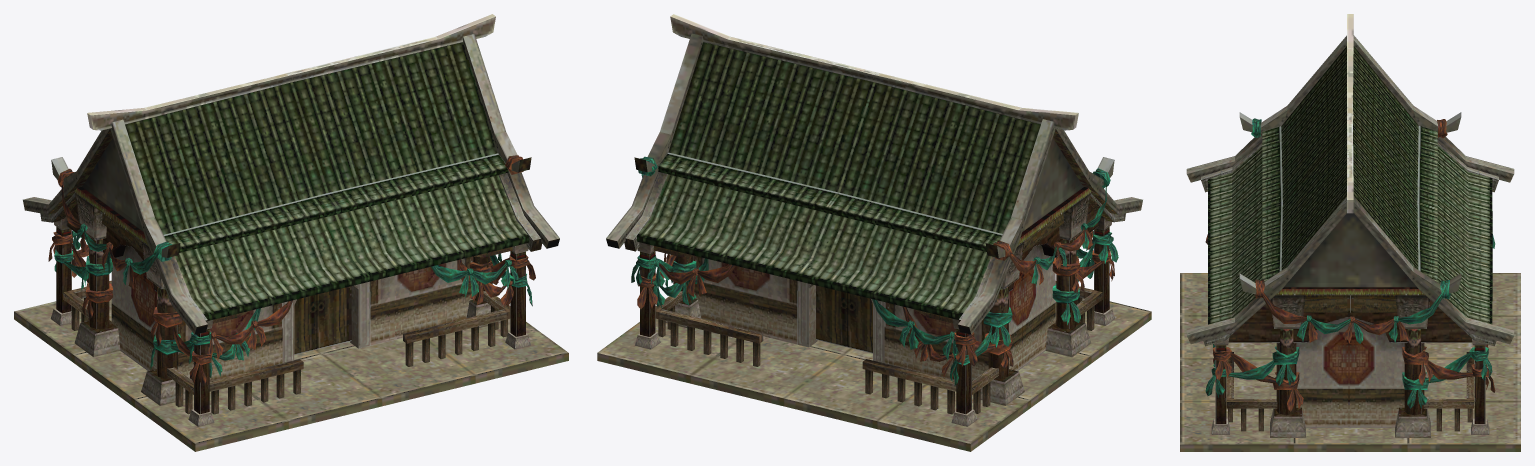
File: c1-rms-001.fbx
3 renders of one model, left to right at view 1: azimuth 30°, elevation 25°; view 2: azimuth 150°, elevation 25°; view 3: azimuth 270°, elevation 25°, orthographic. The views are drawn at different scales.
Visible parts, largest first — view 1: Object01; view 2: Object01; view 3: Object01.
Boxes of the visible parts, x1,y1,x2,y2 form: Object01: [14, 14, 568, 451]; Object01: [597, 14, 1151, 451]; Object01: [1180, 14, 1520, 451].
Size of the model in its own units: 11.98 by 7.77 by 9.27.
